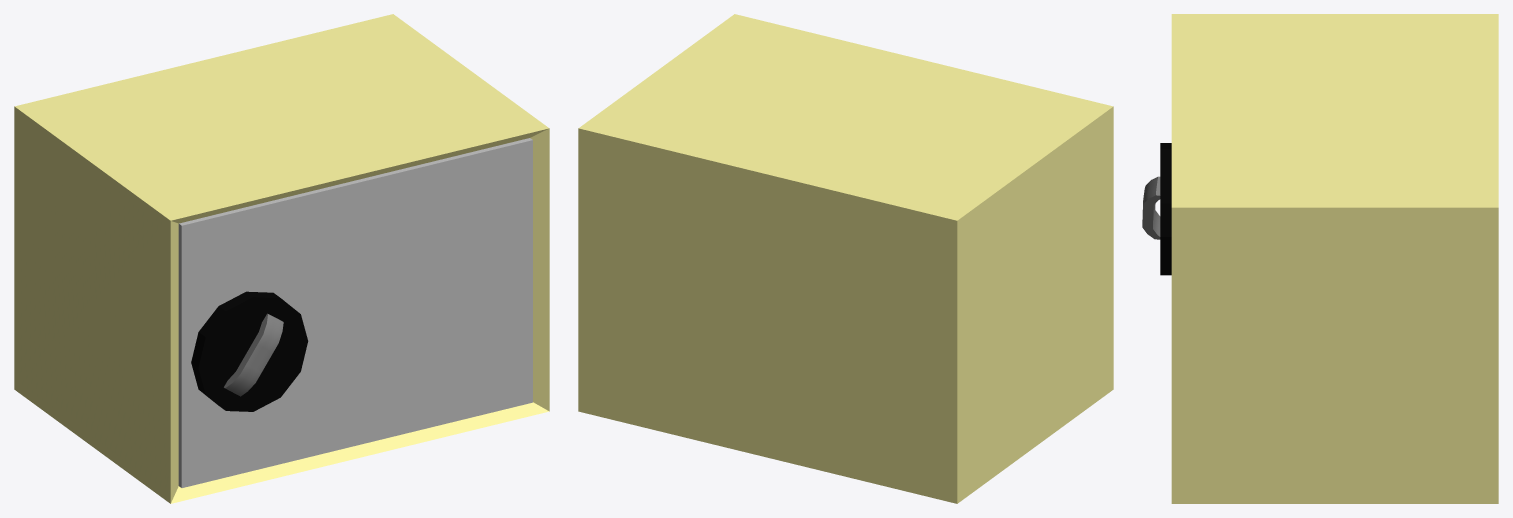
The model's file is safe box.fbx.
The picture shows the model from 3 angles, left to right: view 1: azimuth 30°, elevation 25°; view 2: azimuth 150°, elevation 25°; view 3: azimuth 270°, elevation 25°; orthographic projection. The views are drawn at different scales.
Parts seen in each view (by area): view 1: pasted__pCube1, pasted__pCube2, pasted__pCylinder1, pasted__pCube3; view 2: pasted__pCube1; view 3: pasted__pCube1, pasted__pCylinder1, pasted__pCube3.
Boxes of the visible parts, x1,y1,x2,y2 form: pasted__pCube1: [14, 14, 549, 503]; pasted__pCube2: [178, 138, 532, 487]; pasted__pCylinder1: [191, 291, 308, 411]; pasted__pCube3: [224, 313, 283, 396]; pasted__pCube1: [578, 14, 1113, 503]; pasted__pCube1: [1171, 14, 1498, 503]; pasted__pCylinder1: [1160, 143, 1171, 275]; pasted__pCube3: [1142, 176, 1160, 239].
Bounding box in the file's own units: 45.31 × 32.36 × 35.25.
